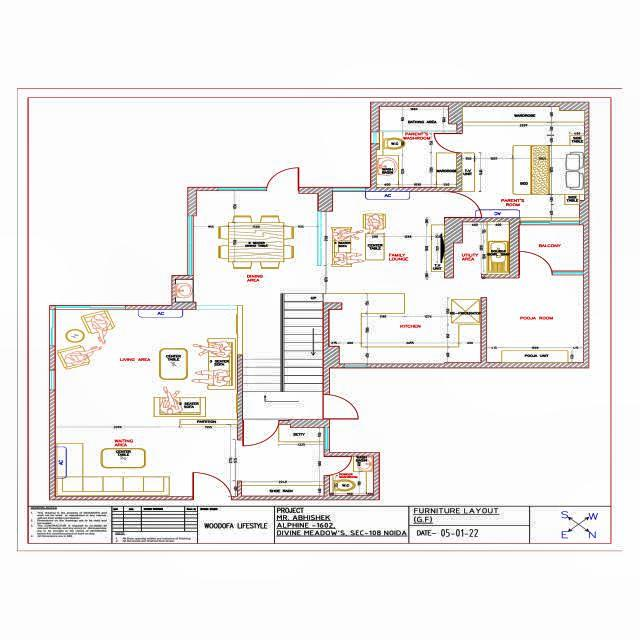room: (58, 309, 236, 495), (174, 193, 316, 301), (461, 106, 585, 219), (322, 191, 444, 291), (323, 293, 483, 363), (488, 278, 583, 361), (377, 105, 457, 187), (244, 427, 323, 495), (520, 225, 582, 272), (454, 222, 510, 274), (328, 459, 373, 492), (199, 194, 201, 197)
